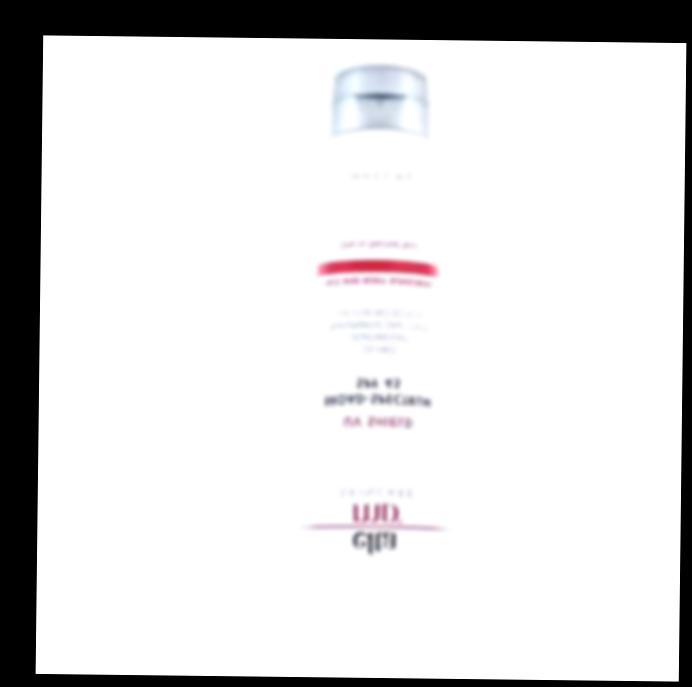cosmetic: (282, 62, 475, 642)
